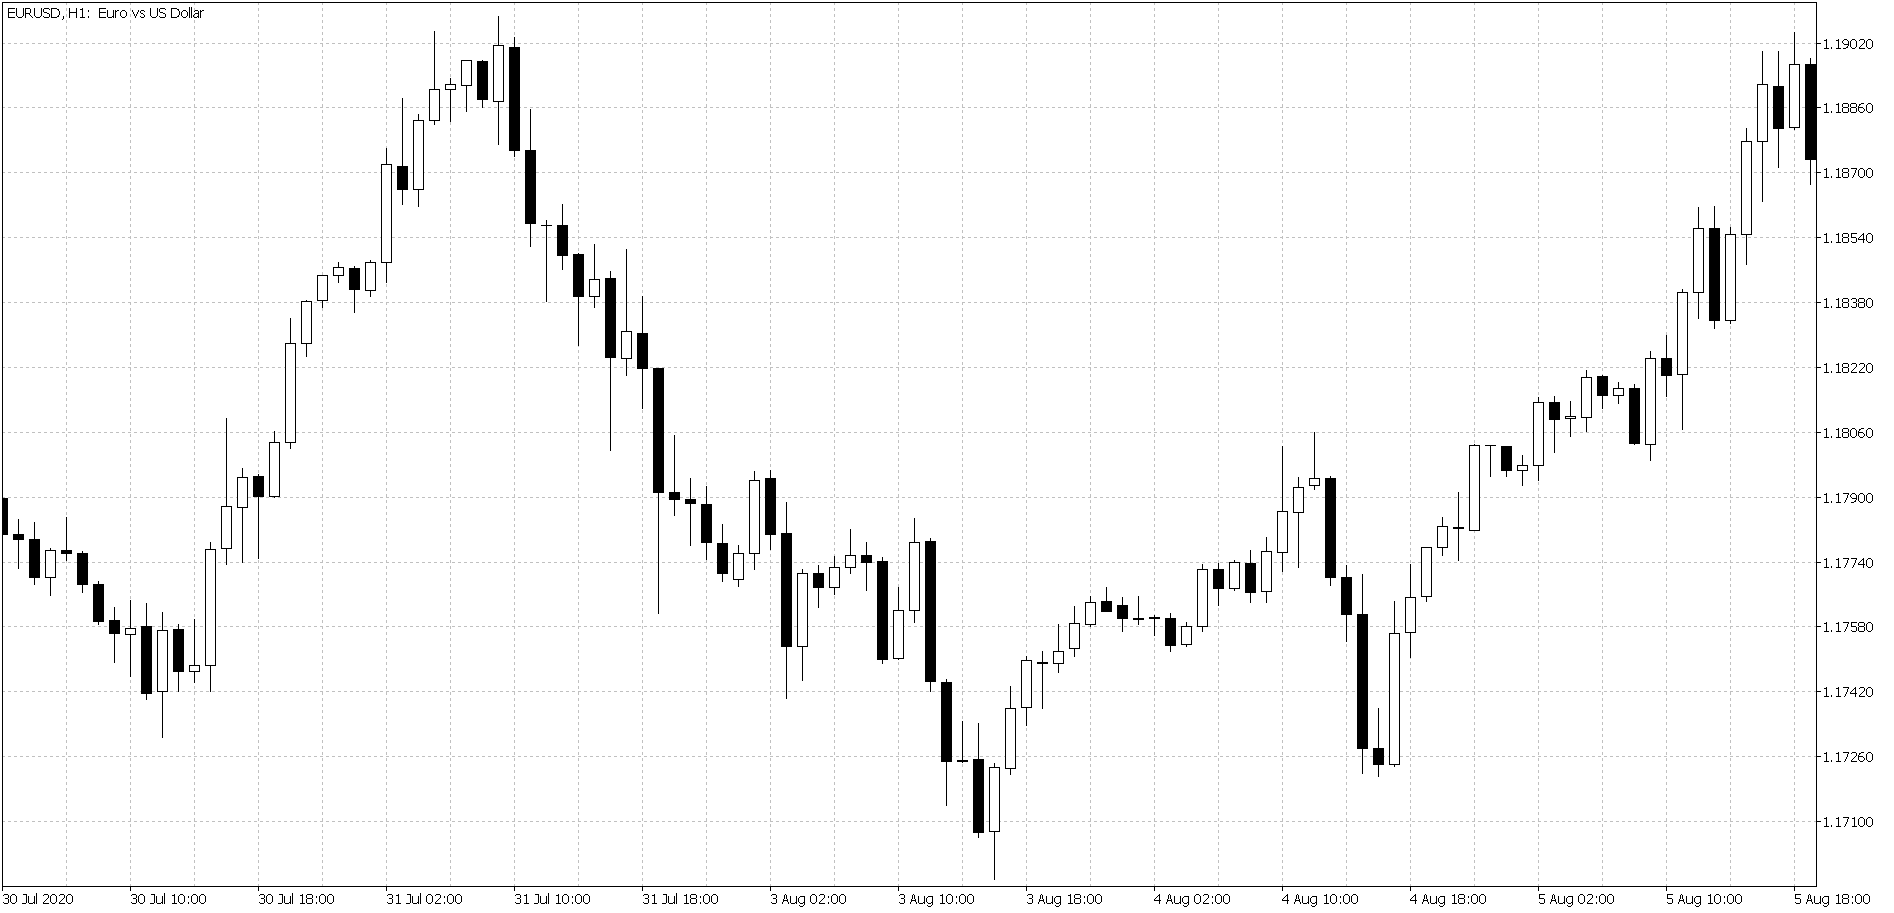eveningStar: (1292, 432, 1337, 588), (43, 521, 91, 601)
morningStar: (1355, 589, 1404, 780)
